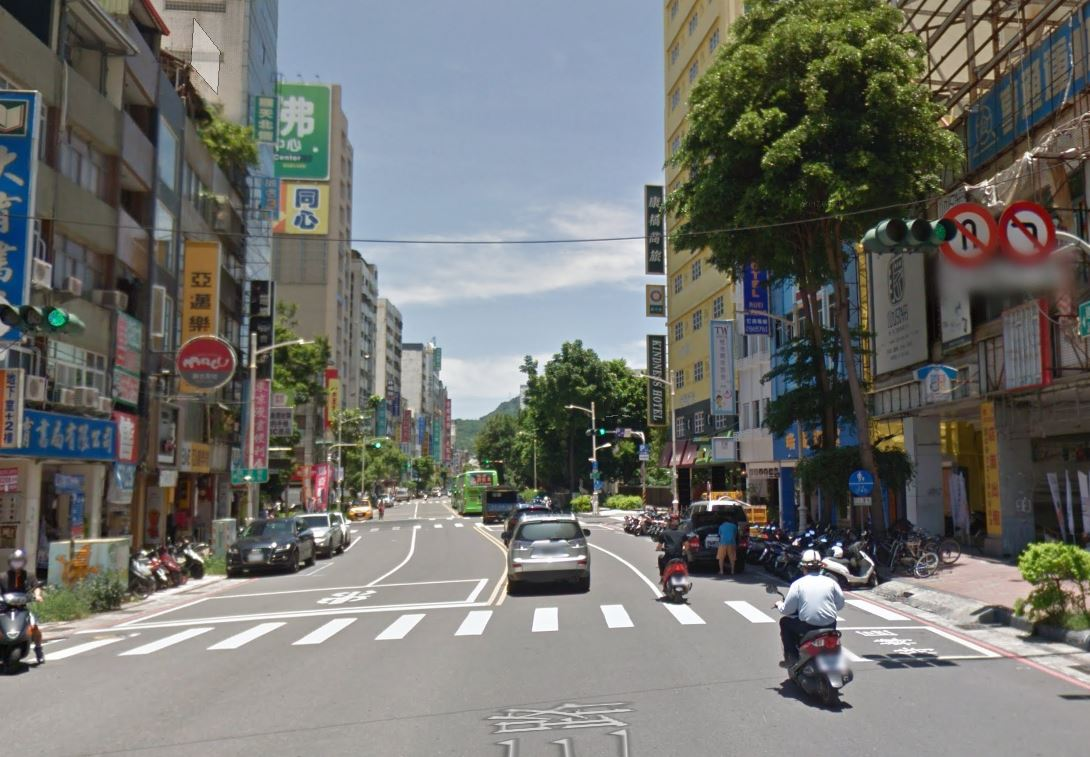Traffic_light_green: (863, 218, 958, 253), (2, 298, 85, 337)
car: (495, 506, 605, 596), (220, 512, 319, 575)
motorcycle: (767, 566, 861, 710), (647, 531, 699, 602)
